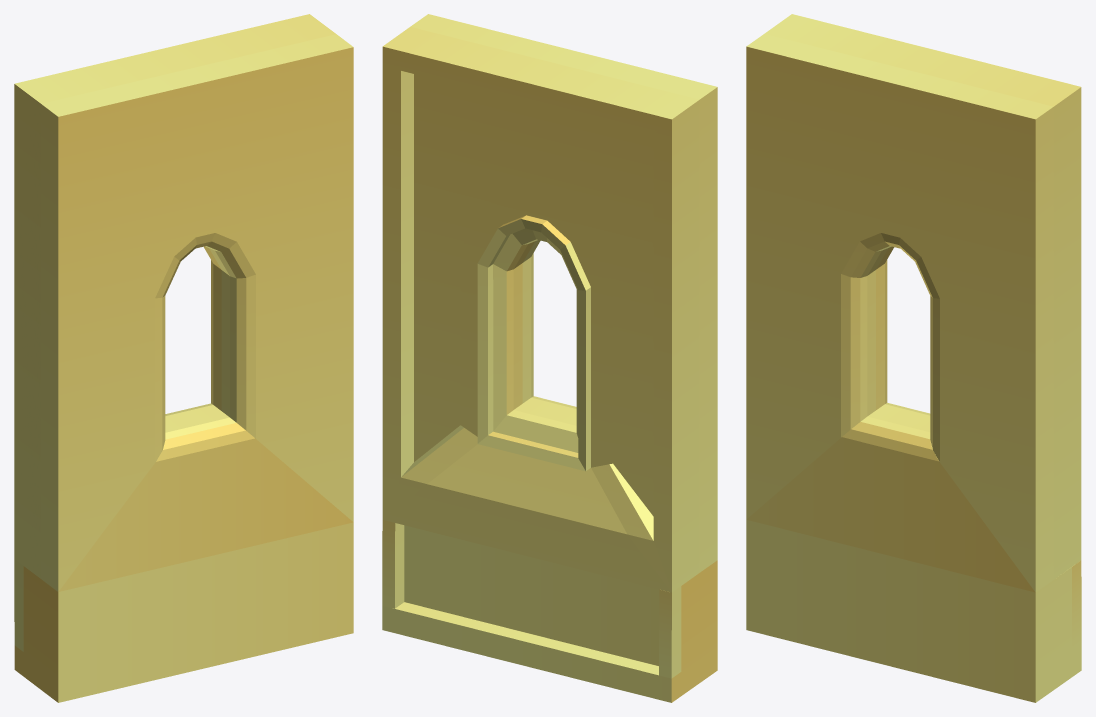
The model's file is muro_stanza_grande_finestra 1.fbx.
The picture shows the model from 3 angles, left to right: view 1: azimuth 30°, elevation 25°; view 2: azimuth 150°, elevation 25°; view 3: azimuth 330°, elevation 25°; orthographic projection.
Parts seen in each view (by area): view 1: pareteGrande_mod02.014; view 2: pareteGrande_mod02.014; view 3: pareteGrande_mod02.014.
Boxes of the visible parts, x1,y1,x2,y2 form: pareteGrande_mod02.014: (14, 14, 353, 702); pareteGrande_mod02.014: (382, 14, 717, 702); pareteGrande_mod02.014: (746, 14, 1081, 702).
Bounding box in the file's own units: 4630 × 8811 × 1290.
1 material, 1 textured.
